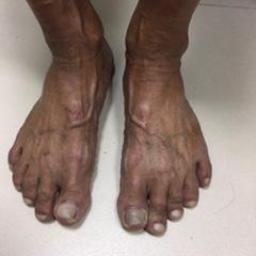Dorsal View -Both Feet-: (2, 12, 223, 242)
